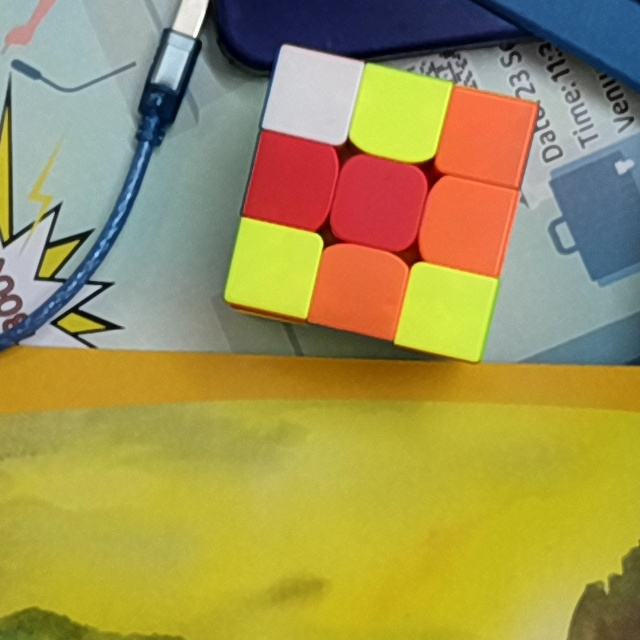tile: (452, 98, 521, 169), (258, 146, 325, 218), (412, 277, 480, 346), (365, 80, 432, 150), (346, 167, 411, 239), (435, 192, 501, 258), (328, 257, 395, 322), (237, 237, 305, 301), (283, 61, 346, 129)
